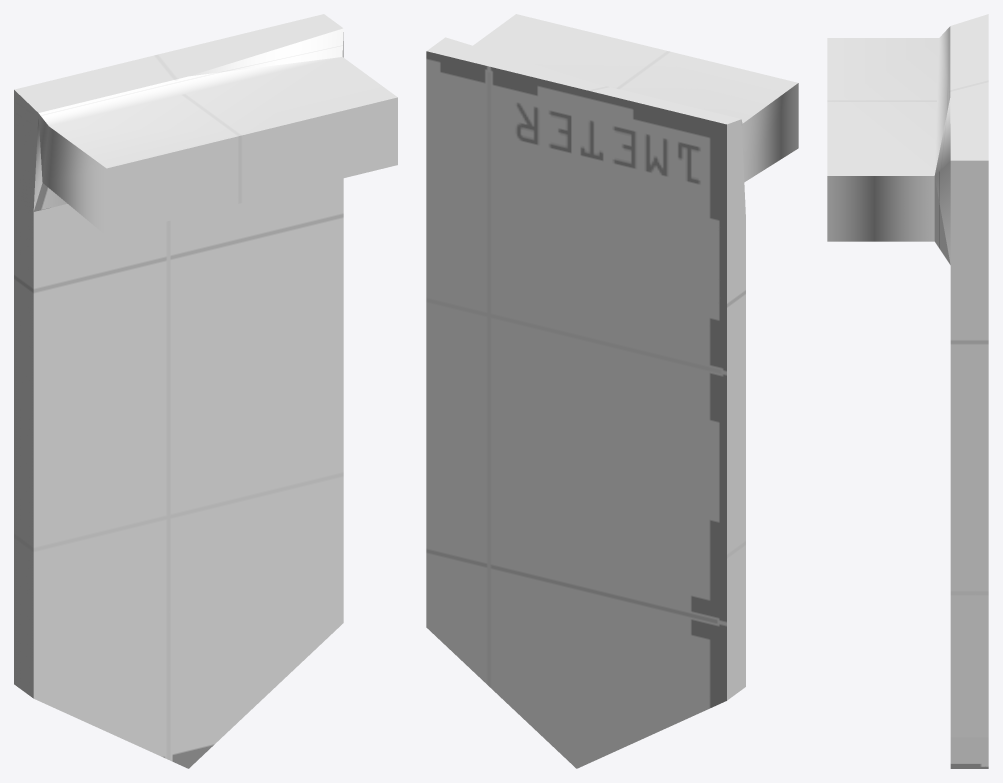
The model's file is banner.fbx.
3 renders of one model, left to right at view 1: azimuth 30°, elevation 25°; view 2: azimuth 150°, elevation 25°; view 3: azimuth 270°, elevation 25°, orthographic. The views are drawn at different scales.
Visible parts, largest first — view 1: Banner_L:Banner_L; view 2: Banner_L:Banner_L; view 3: Banner_L:Banner_L.
Part boxes in pixels (<box>): Banner_L:Banner_L: <box>14,14,397,768</box>; Banner_L:Banner_L: <box>426,14,798,768</box>; Banner_L:Banner_L: <box>827,14,988,768</box>.
Size of the model in its own units: 3 by 6.5 by 1.39.
Materials: 1 (1 with a texture image).
